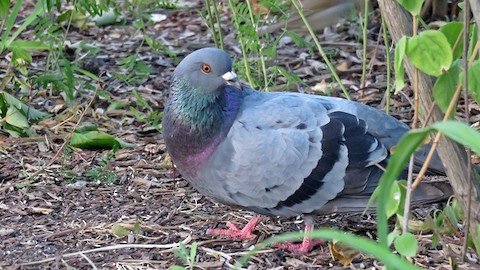pigeon: (157, 44, 461, 260)
